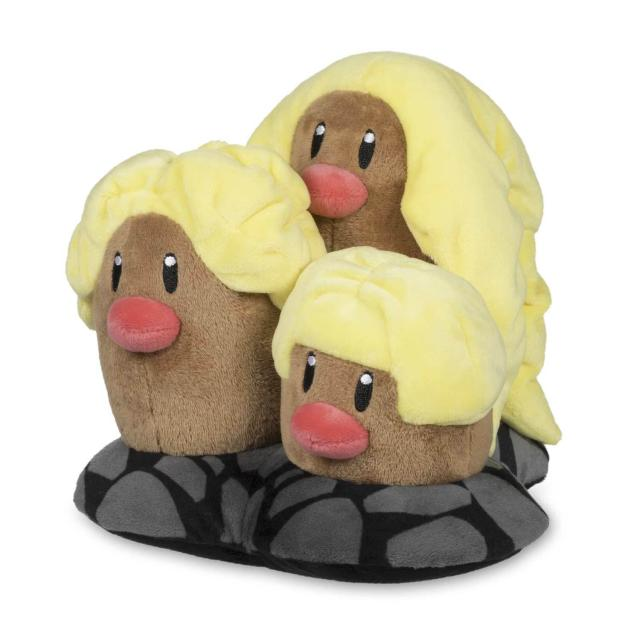Dugtrio: (84, 46, 534, 503)
